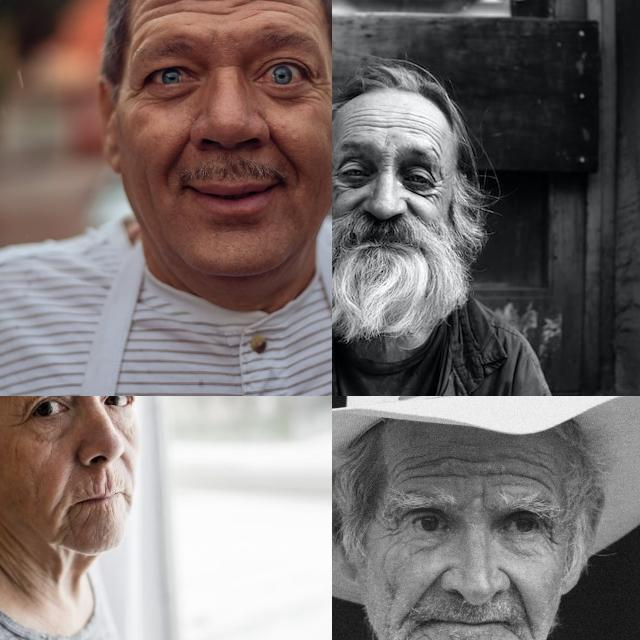chin: (76, 502, 120, 522), (56, 518, 74, 546), (511, 625, 529, 640), (421, 634, 460, 640)
crows_feet: (307, 69, 332, 106), (120, 78, 148, 104), (378, 518, 404, 544), (8, 410, 34, 430), (540, 517, 556, 549), (430, 180, 442, 202), (332, 171, 343, 193)
forehead: (396, 455, 436, 489), (257, 0, 311, 22), (394, 112, 434, 140), (206, 0, 252, 24), (503, 447, 545, 473), (139, 0, 195, 18), (498, 464, 540, 488), (442, 452, 470, 484), (353, 110, 389, 130)
frown_line: (478, 482, 492, 512), (211, 57, 237, 71), (378, 150, 394, 170)
gummy_smile: (268, 132, 302, 172), (162, 132, 194, 172), (412, 570, 444, 608), (508, 577, 532, 613), (401, 198, 423, 222), (346, 195, 366, 212), (50, 494, 64, 516)
smoker_lines: (86, 470, 120, 488)
